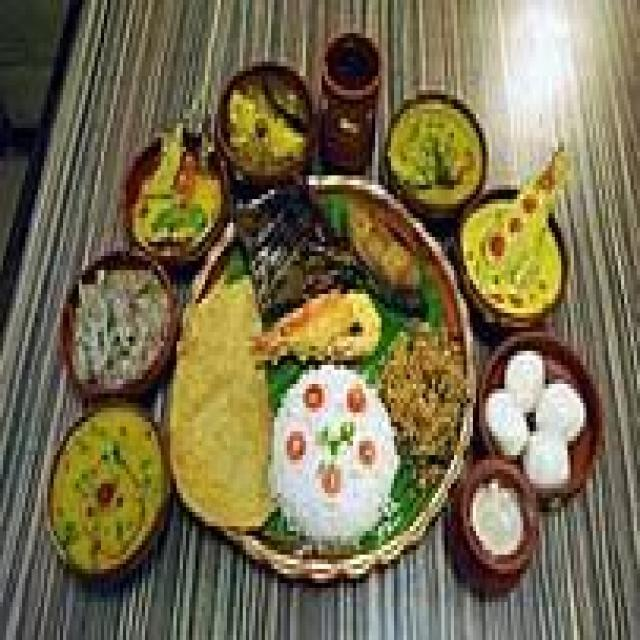curd: (451, 452, 544, 585)
dal: (40, 402, 168, 579)
rice: (266, 353, 396, 564)
sweet: (509, 370, 595, 488)
veg: (462, 167, 575, 330)
